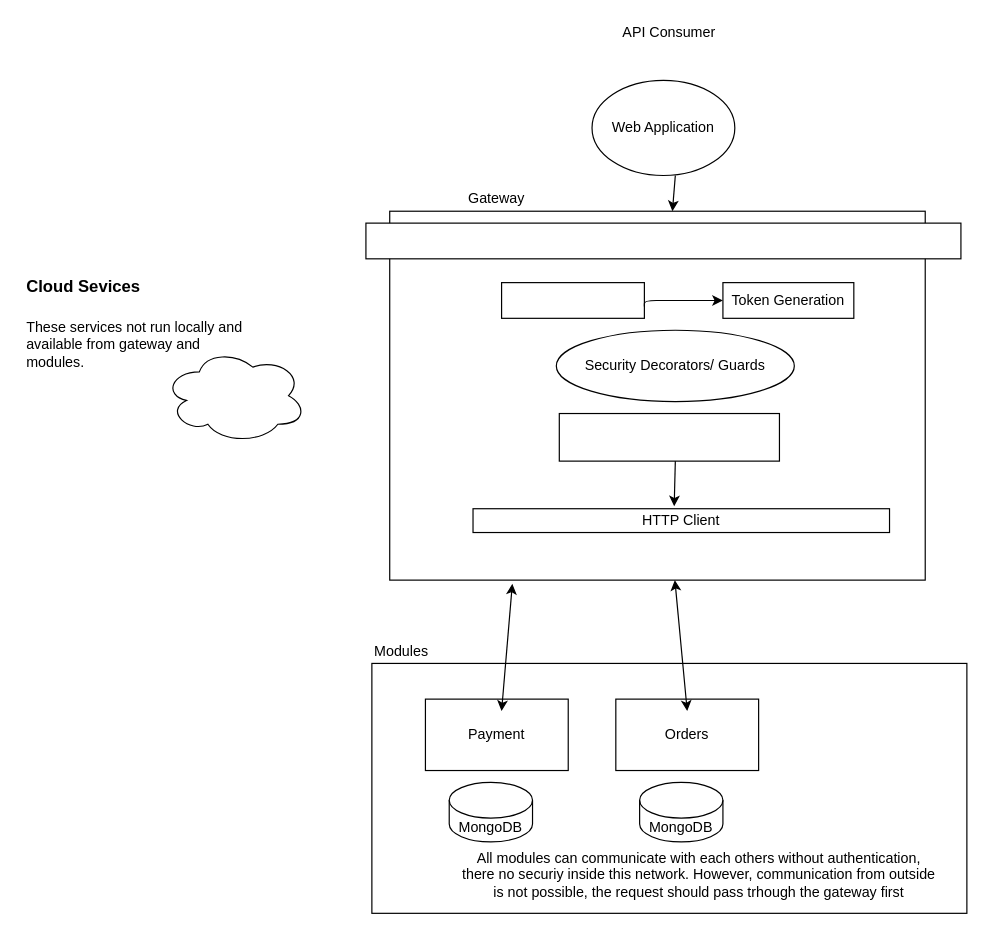
Some shapes in this 988 by 938 pixel diagram are drawn without their labels. The centre of each missing label's shape, as x and y in pixels:
AUTHENTICATION: (x=663, y=240)
controllers: (x=668, y=436)
LOGIN information verification: (x=572, y=299)
RabbitMq: (x=234, y=395)
